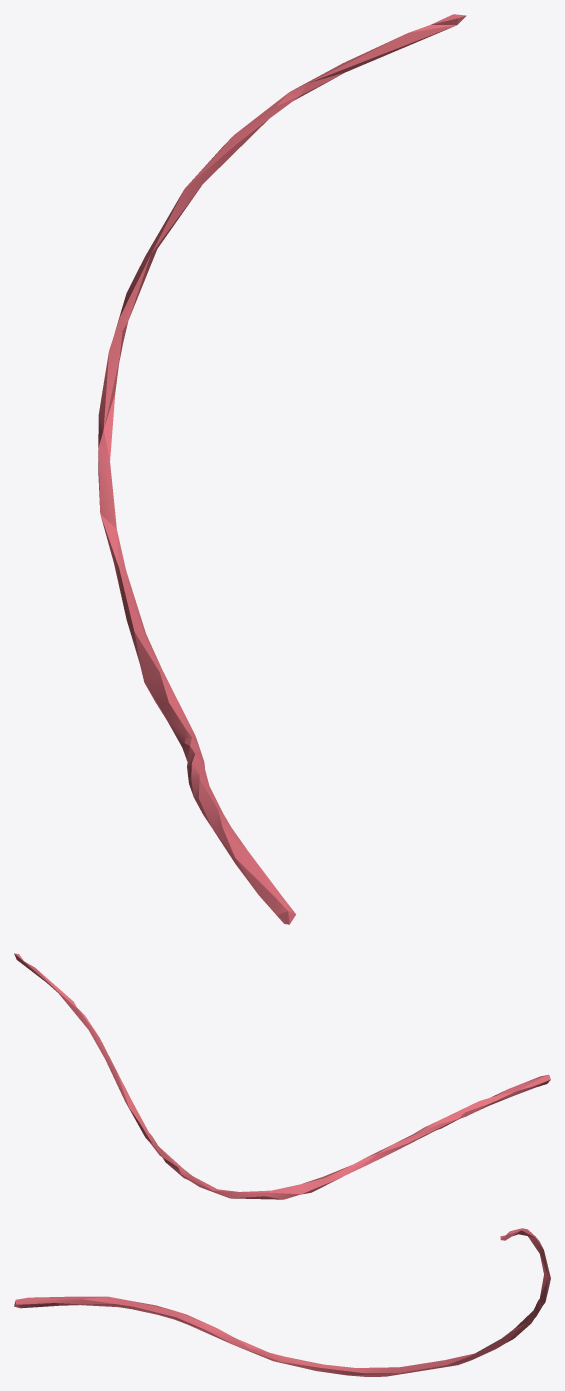
Rendered from fma50520_fj1702m.glb.
The picture shows the model from 3 angles, top to bottom: view 1: azimuth 30°, elevation 25°; view 2: azimuth 150°, elevation 25°; view 3: azimuth 270°, elevation 25°; orthographic projection. The views are drawn at different scales.
Parts seen in each view (by area): view 1: FMA50520_FJ1702M; view 2: FMA50520_FJ1702M; view 3: FMA50520_FJ1702M.
Part boxes in pixels (left/top/right/bottom): FMA50520_FJ1702M: left=98, top=14, right=466, bottom=924; FMA50520_FJ1702M: left=14, top=953, right=550, bottom=1199; FMA50520_FJ1702M: left=14, top=1228, right=550, bottom=1376.
Size of the model in its own units: 0.0185 by 0.0132 by 0.025.
